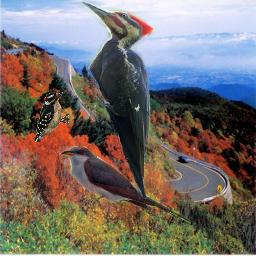Cuckoo: (59, 146, 191, 226)
Woodpecker: (79, 0, 155, 199), (34, 92, 70, 142)
